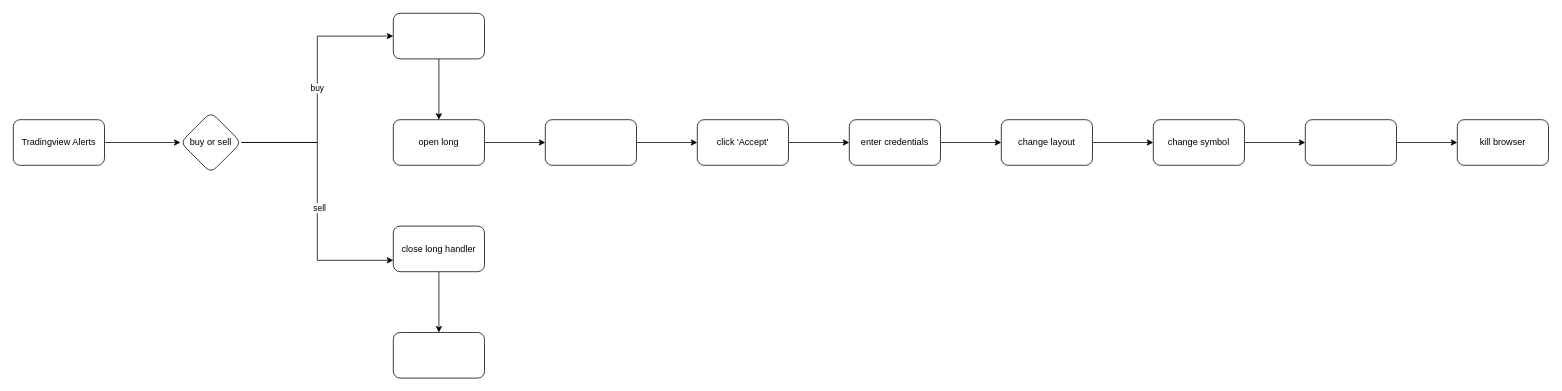
The diagram is 1562 pixels wide and 391 high, and some of its shapes have lost their labels. The centre of each missing label's shape, as x and y in pixels:
close long: the point at 438,355
enter volume: the point at 1350,142
open long handler: the point at 438,36
start chrome: the point at 590,142
